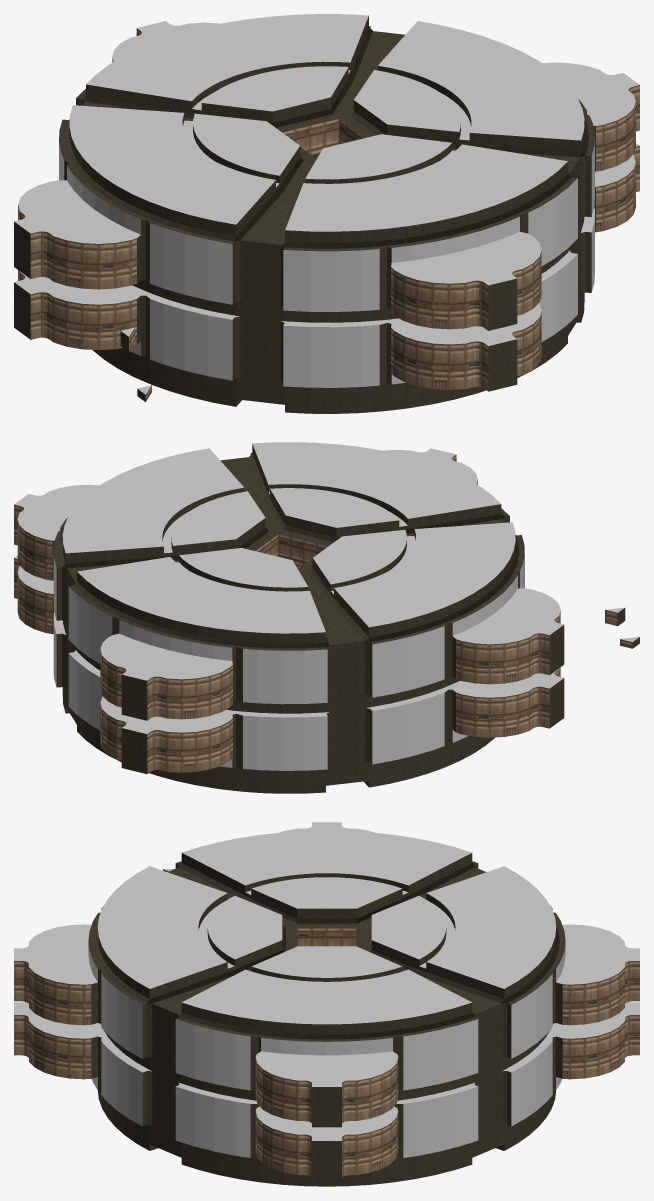
Rendered from Dragonfly_BarrelBattle.obj.
3 views of the same model, one above another, from view 1: azimuth 30°, elevation 25°; view 2: azimuth 150°, elevation 25°; view 3: azimuth 270°, elevation 25° (orthographic). The views are drawn at different scales.
Visible parts, largest first — view 1: MAP01; view 2: MAP01; view 3: MAP01.
Part boxes in pixels (left/top/right/bottom): MAP01: left=14, top=14, right=639, bottom=413; MAP01: left=14, top=442, right=639, bottom=793; MAP01: left=14, top=822, right=639, bottom=1186.
Size of the model in its own units: 42 by 15 by 42.
